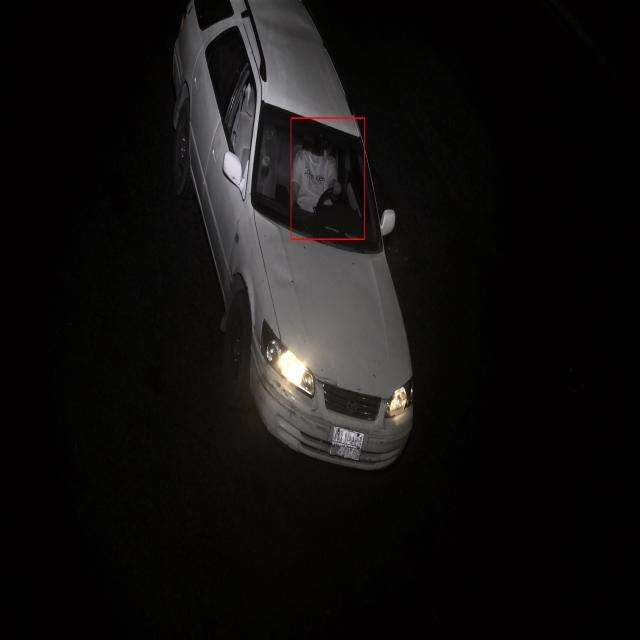windshield: (248, 99, 385, 258)
